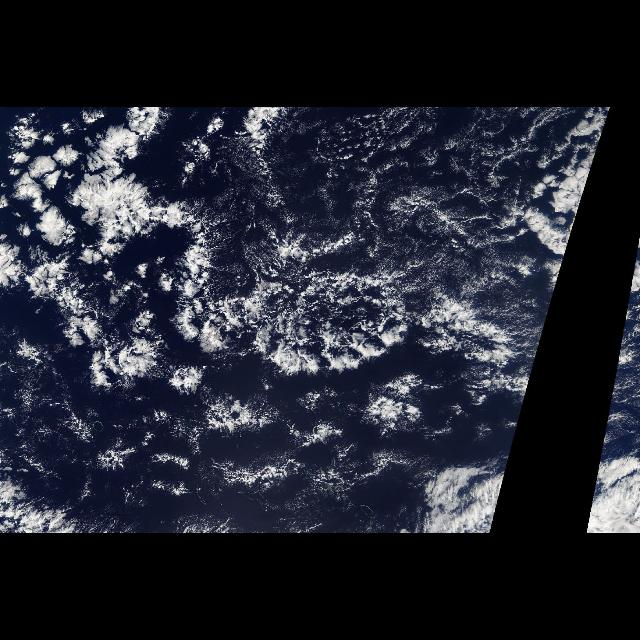Fish: (69, 184, 407, 376)
Flower: (1, 108, 420, 506)
Gravel: (180, 233, 526, 434)
Sugar: (246, 114, 578, 352)
